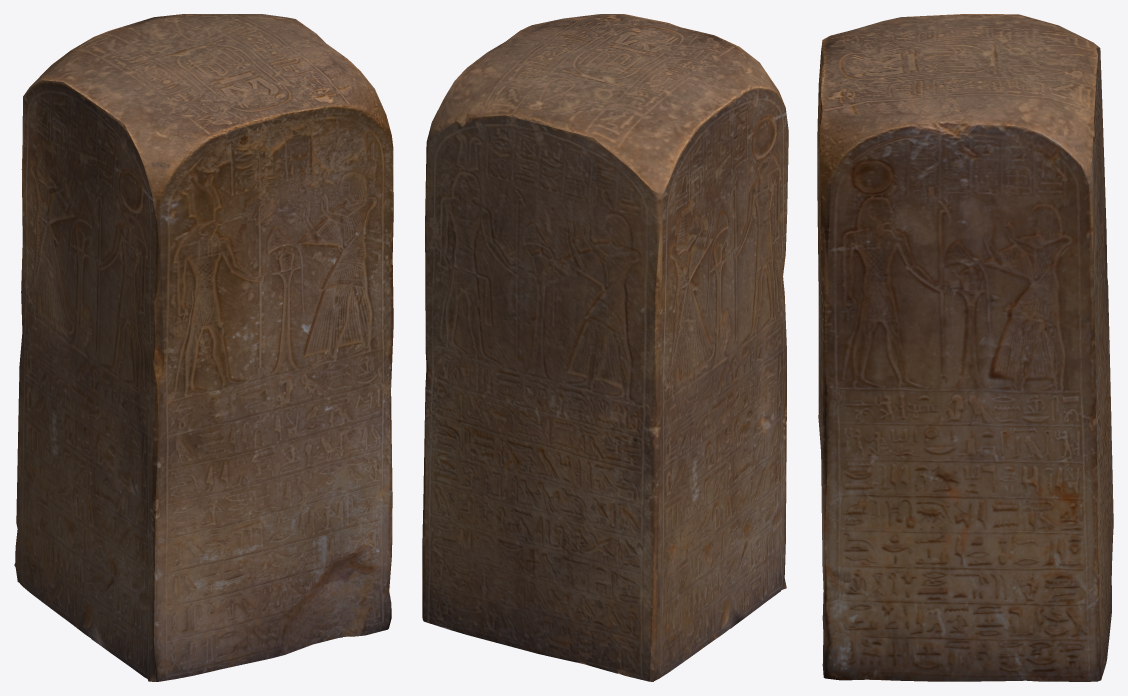
The model's file is Stele_Egyptian_Pillar.fbx.
3 views of the same model, side by side, from view 1: azimuth 30°, elevation 25°; view 2: azimuth 150°, elevation 25°; view 3: azimuth 270°, elevation 25° (orthographic). The views are drawn at different scales.
Visible parts, largest first — view 1: Stele_Egyptian_Pillar_LOD0; view 2: Stele_Egyptian_Pillar_LOD0; view 3: Stele_Egyptian_Pillar_LOD0.
Part boxes in pixels (x1,y1,x2,y2): Stele_Egyptian_Pillar_LOD0: [14, 14, 393, 681]; Stele_Egyptian_Pillar_LOD0: [422, 14, 788, 681]; Stele_Egyptian_Pillar_LOD0: [817, 14, 1113, 681].
Size of what is drawn, in the model's own units: 84.58 by 181 by 86.09.
